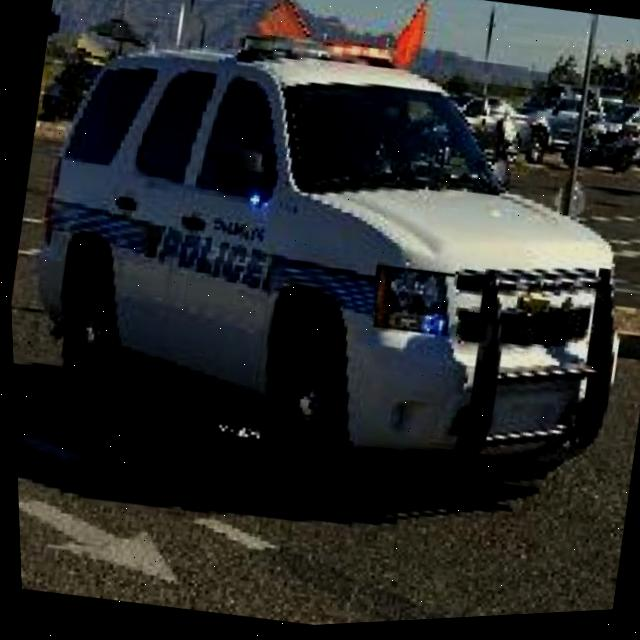emergency: (0, 0, 640, 546)
